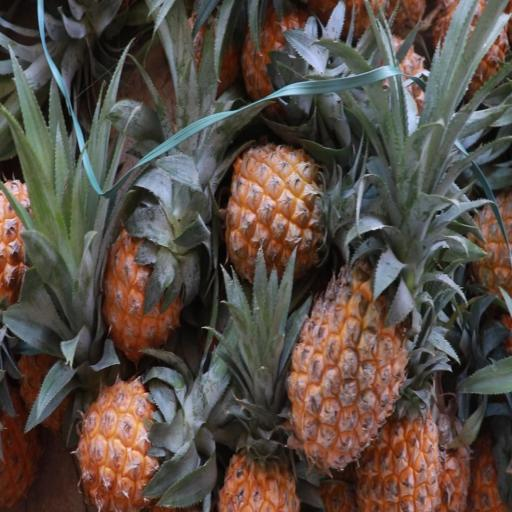Pineapple - v8 v1: (280, 237, 426, 480), (218, 132, 358, 298), (69, 357, 204, 512), (91, 201, 199, 372), (217, 366, 306, 512), (240, 1, 342, 127)
